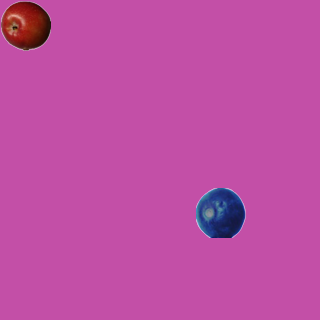Apple Braeburn: (0, 0, 50, 50)
Huckleberry: (195, 187, 245, 237)
